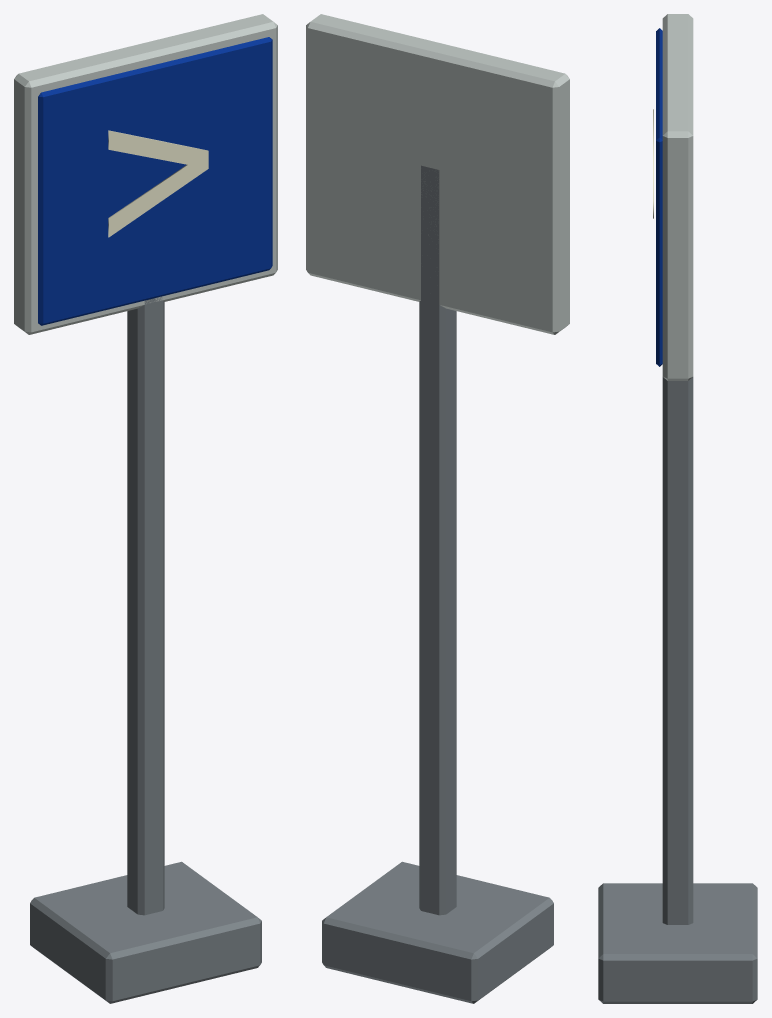
Rendered from DirectionSign.fbx.
3 renders of one model, left to right at view 1: azimuth 30°, elevation 25°; view 2: azimuth 150°, elevation 25°; view 3: azimuth 270°, elevation 25°, orthographic.
Parts seen in each view (by area): view 1: DirectionSign; view 2: DirectionSign; view 3: DirectionSign.
Boxes of the visible parts, left/top/right/bottom form: DirectionSign: left=14, top=14, right=277, bottom=1003; DirectionSign: left=306, top=14, right=569, bottom=1003; DirectionSign: left=598, top=14, right=757, bottom=1003.
Bounding box in the file's own units: 47 × 162 × 26.
Materials: 1 (1 with a texture image).
